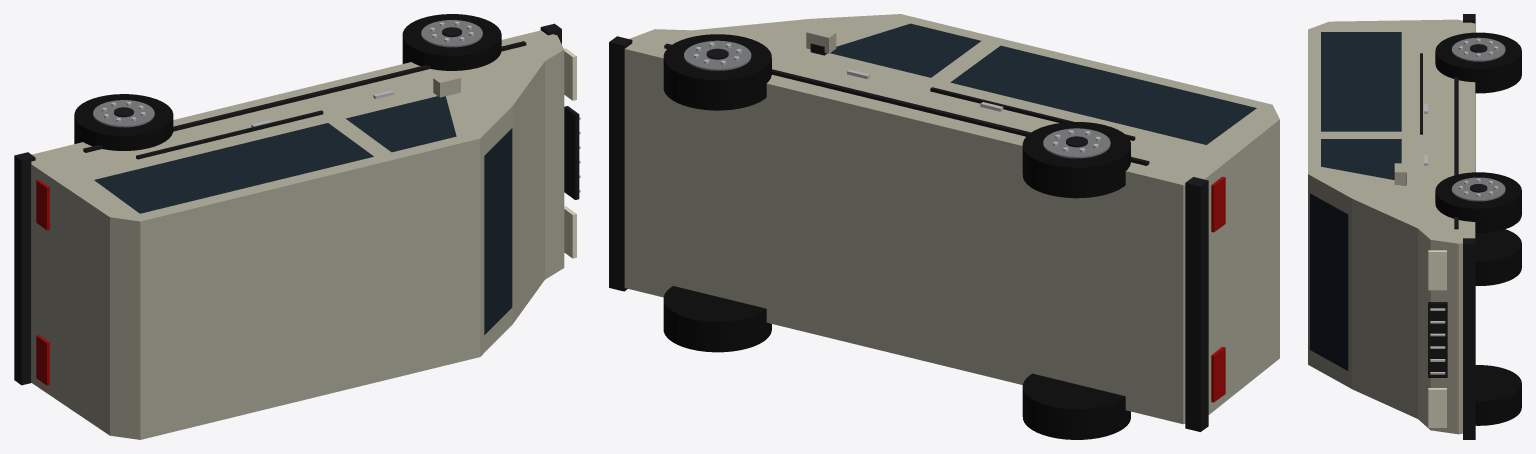
Rendered from car.obj.
The picture shows the model from 3 angles, left to right: view 1: azimuth 30°, elevation 25°; view 2: azimuth 150°, elevation 25°; view 3: azimuth 270°, elevation 25°; orthographic projection. The views are drawn at different scales.
Visible parts, largest first — view 1: Body, Side_rear_glass, Tire, Van_windshield, Rear_bumper, Side_front_glass, Wheel_hub, Body_trim, Front_grille, Rear_lamp, Headlamp, Van_sliding_door_rail (+1 smaller); view 2: Body, Tire, Side_rear_glass, Rear_bumper, Side_front_glass, Front_bumper, Wheel_hub, Body_trim, Rear_lamp, Van_sliding_door_rail; view 3: Body, Tire, Side_rear_glass, Van_windshield, Side_front_glass, Front_bumper, Wheel_hub, Headlamp, Front_grille, Body_trim, Grille_line, Mirror (+3 smaller).
Part boxes in pixels (left/top/right/bottom): Body: left=31, top=30, right=564, bottom=439; Side_rear_glass: left=94, top=123, right=373, bottom=213; Tire: left=74, top=14, right=501, bottom=150; Van_windshield: left=484, top=128, right=512, bottom=334; Rear_bumper: left=14, top=152, right=35, bottom=385; Side_front_glass: left=346, top=96, right=456, bottom=152; Wheel_hub: left=93, top=20, right=482, bottom=127; Body_trim: left=83, top=41, right=526, bottom=152; Front_grille: left=564, top=106, right=579, bottom=199; Rear_lamp: left=36, top=179, right=49, bottom=385; Headlamp: left=564, top=48, right=576, bottom=258; Van_sliding_door_rail: left=136, top=110, right=323, bottom=159; Body: left=624, top=14, right=1279, bottom=424; Tire: left=663, top=34, right=1130, bottom=439; Side_rear_glass: left=950, top=45, right=1256, bottom=144; Rear_bumper: left=1185, top=177, right=1208, bottom=431; Side_front_glass: left=830, top=23, right=980, bottom=77; Front_bumper: left=609, top=36, right=632, bottom=291; Wheel_hub: left=684, top=40, right=1110, bottom=158; Body_trim: left=664, top=43, right=1149, bottom=165; Rear_lamp: left=1211, top=176, right=1225, bottom=402; Van_sliding_door_rail: left=930, top=87, right=1135, bottom=140; Body: left=1308, top=19, right=1475, bottom=434; Tire: left=1435, top=32, right=1521, bottom=425; Side_rear_glass: left=1321, top=32, right=1401, bottom=131; Van_windshield: left=1310, top=193, right=1348, bottom=370; Side_front_glass: left=1321, top=139, right=1401, bottom=180; Front_bumper: left=1463, top=238, right=1475, bottom=439; Wheel_hub: left=1451, top=37, right=1505, bottom=201; Headlamp: left=1428, top=250, right=1446, bottom=427; Front_grille: left=1428, top=302, right=1447, bottom=377; Body_trim: left=1454, top=77, right=1458, bottom=229; Grille_line: left=1430, top=308, right=1445, bottom=374; Mirror: left=1394, top=163, right=1406, bottom=184.
Size of the model in its own units: 4.66 by 2.12 by 1.83.
